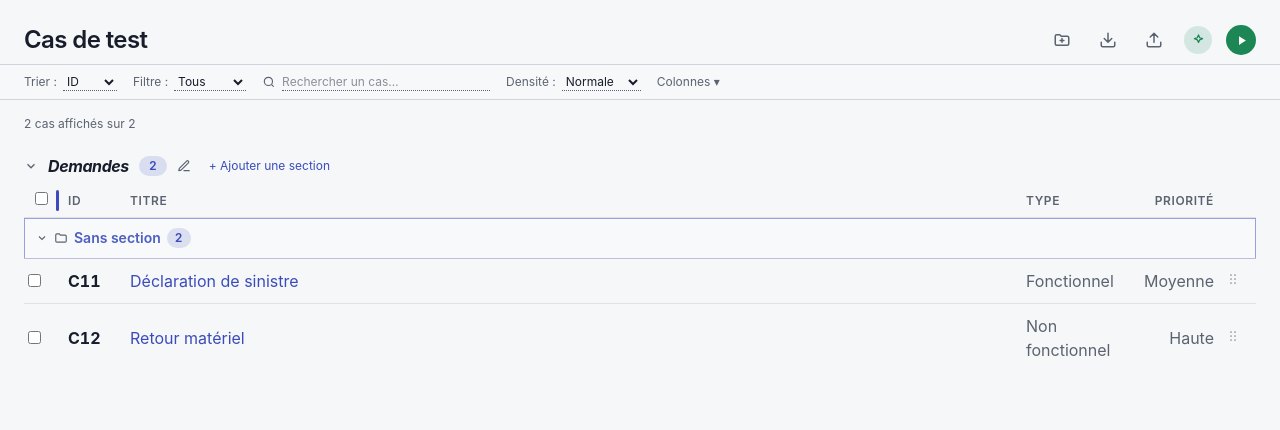
it: les actions en lot › DIT combien de cas ont été ignorés
This screenshot has width=1280, height=430.
Click the checkbox named "Sélectionner les cas de Demandes".
click(42, 198)  # box [35,192,48,205]
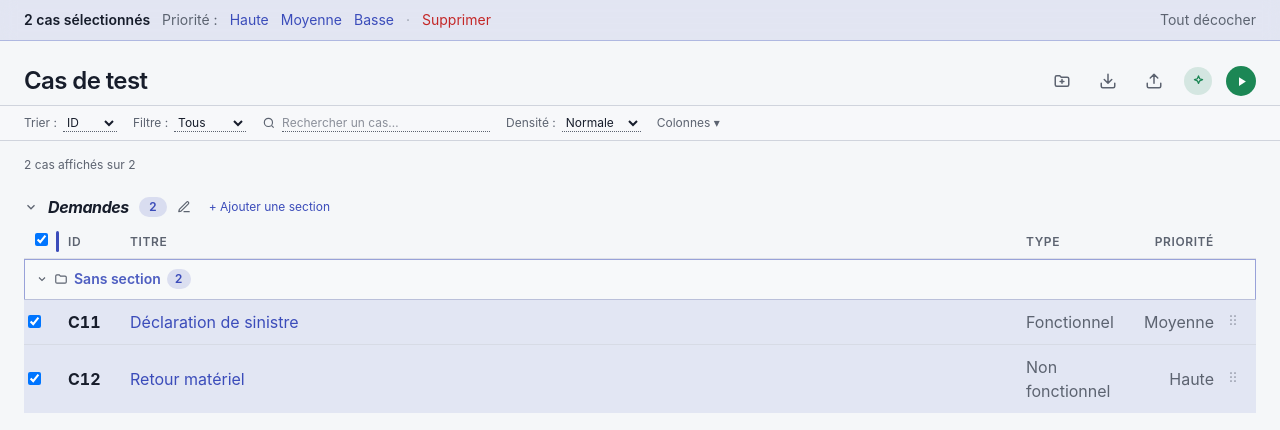
Click the button "Basse".
click(374, 20)  # box [354,10,394,30]
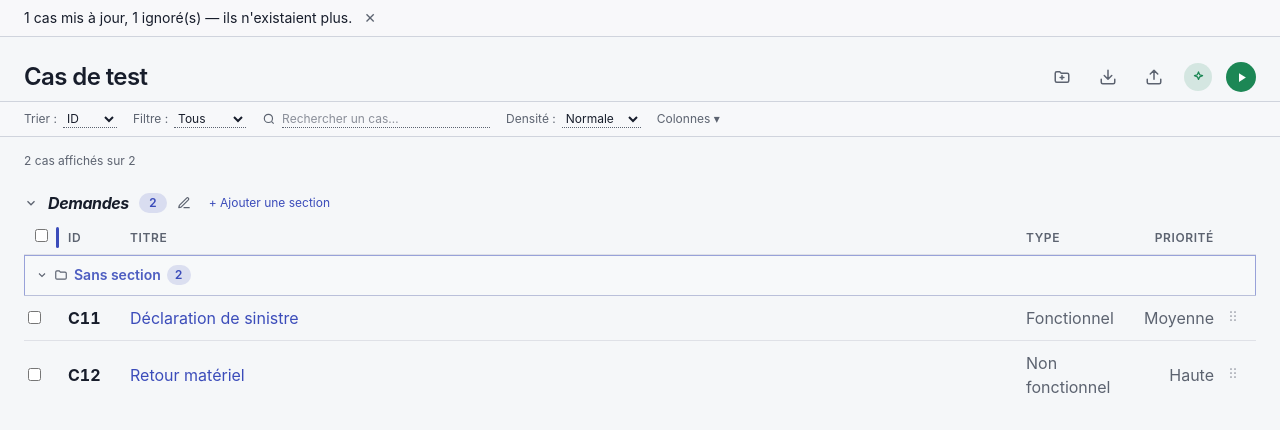
Expected: the text "1 ignoré" is shown, [24,9,352,26]
